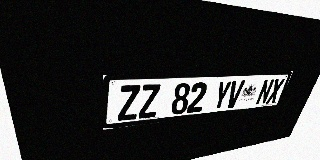2: (186, 82, 208, 113)
8: (170, 83, 192, 115)
N: (255, 79, 275, 105)
V: (225, 80, 245, 109)
X: (266, 78, 285, 104)
Y: (211, 81, 232, 110)
Z: (138, 84, 161, 119), (118, 85, 140, 121)
